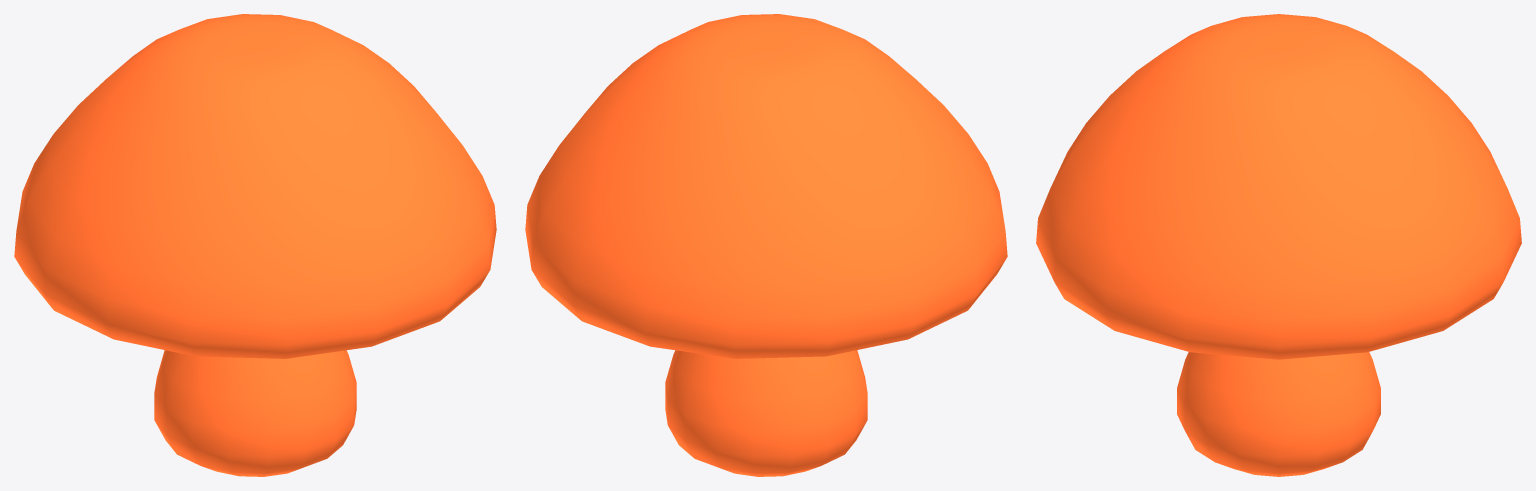
File: hongo.glb
3 views of the same model, side by side, from view 1: azimuth 30°, elevation 25°; view 2: azimuth 150°, elevation 25°; view 3: azimuth 270°, elevation 25° (orthographic).
Parts seen in each view (by area): view 1: BézierCircle; view 2: BézierCircle; view 3: BézierCircle.
Boxes of the visible parts, <box> form: BézierCircle: <box>14,14,496,476</box>; BézierCircle: <box>525,14,1007,476</box>; BézierCircle: <box>1036,14,1521,476</box>.
Bounding box in the file's own units: 0.1669 × 0.1543 × 0.1669.
